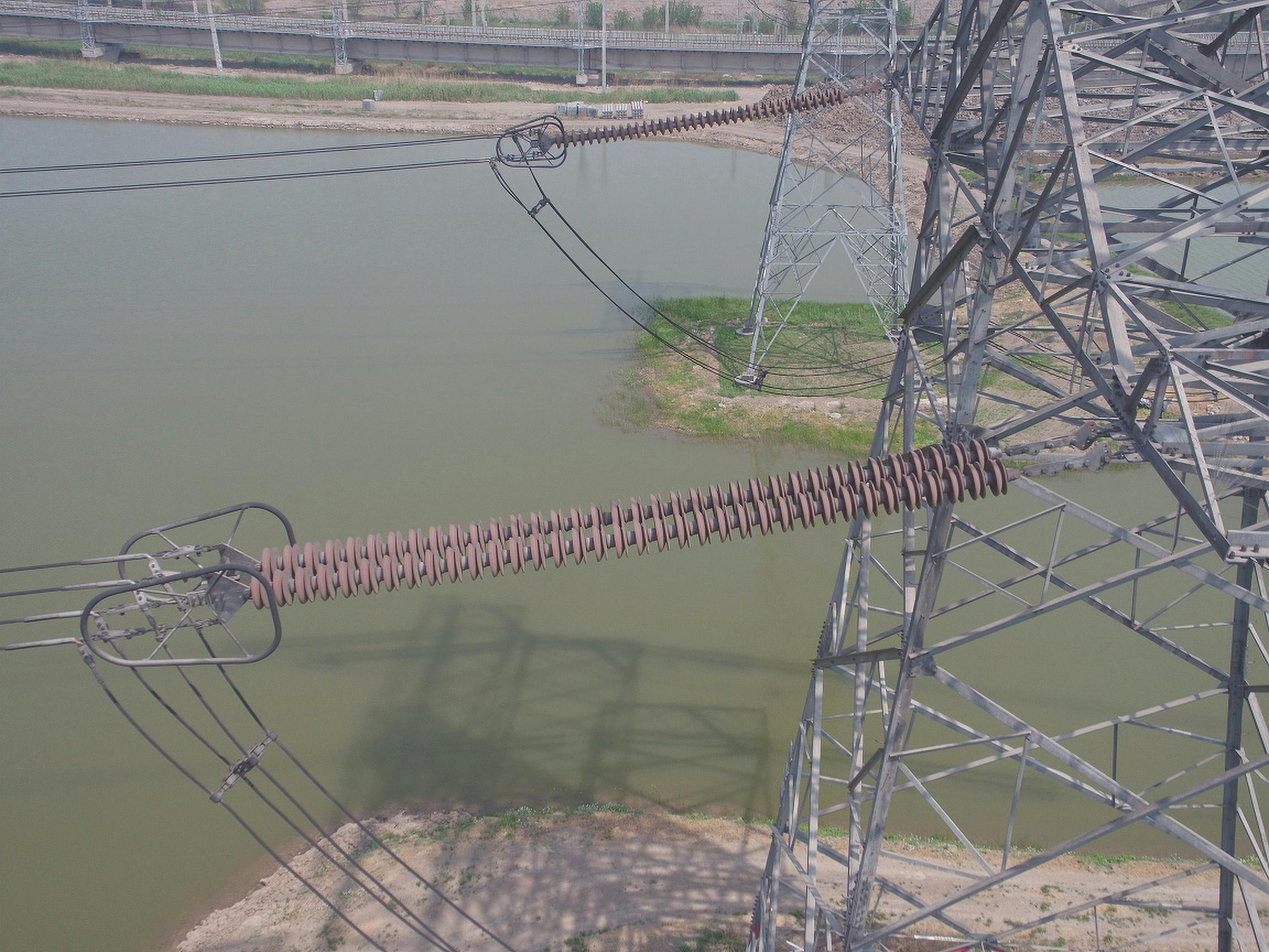insulator: (246, 435, 1014, 617), (552, 84, 845, 151)
